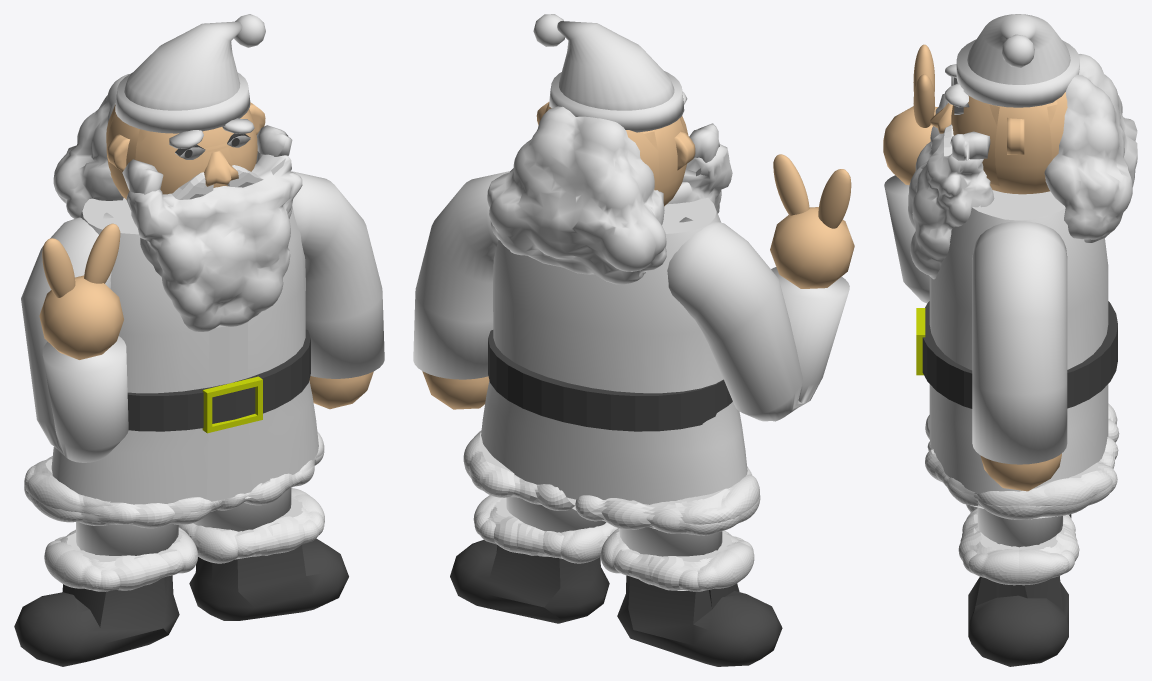
File: santa(41242)1.19.fbx
3 renders of one model, left to right at view 1: azimuth 30°, elevation 25°; view 2: azimuth 150°, elevation 25°; view 3: azimuth 270°, elevation 25°, orthographic.
Parts seen in each view (by area): view 1: ICO球.003; view 2: ICO球.003; view 3: ICO球.003.
Boxes of the visible parts, x1=… form: ICO球.003: x1=14, y1=14, x2=384, y2=666; ICO球.003: x1=413, y1=14, x2=854, y2=666; ICO球.003: x1=883, y1=14, x2=1137, y2=666.
Bounding box in the file's own units: 838 × 1257 × 483.
